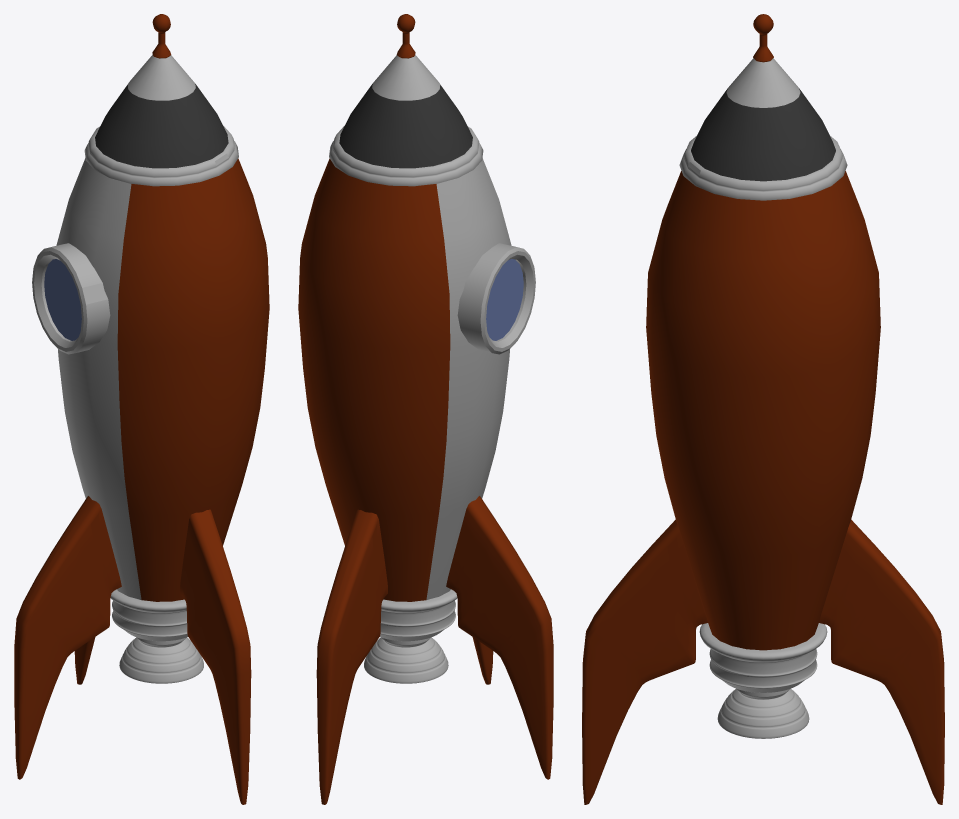
Rendered from rocket.fbx.
3 renders of one model, left to right at view 1: azimuth 30°, elevation 25°; view 2: azimuth 150°, elevation 25°; view 3: azimuth 270°, elevation 25°, orthographic. The views are drawn at different scales.
Visible parts, largest first — view 1: rocket:pCylinder1polySurface3polySurface1; view 2: rocket:pCylinder1polySurface3polySurface1; view 3: rocket:pCylinder1polySurface3polySurface1.
Part boxes in pixels (bbox=[...]): rocket:pCylinder1polySurface3polySurface1: bbox=[14, 14, 269, 804]; rocket:pCylinder1polySurface3polySurface1: bbox=[298, 14, 553, 804]; rocket:pCylinder1polySurface3polySurface1: bbox=[582, 14, 944, 804].
Bounding box in the file's own units: 0.0455 × 0.1327 × 0.0553.
